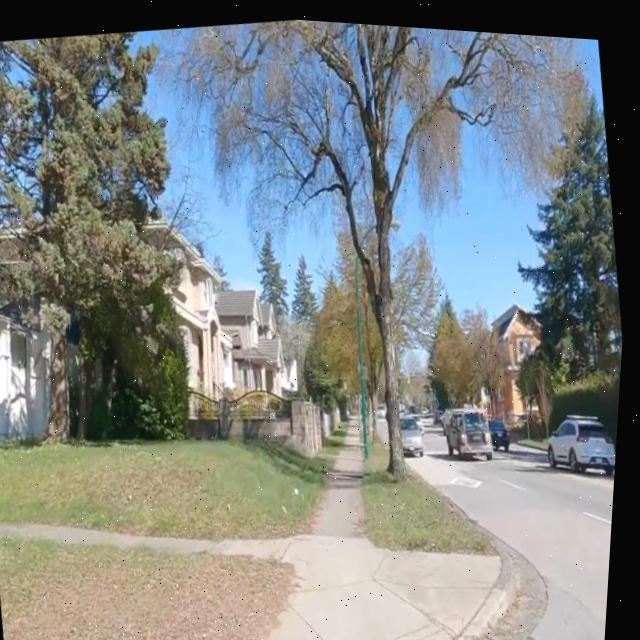Automobile: (553, 408, 620, 466), (449, 402, 497, 452), (405, 411, 428, 449), (495, 412, 513, 443)
Road: (413, 430, 620, 639)
Sidewalk: (226, 529, 516, 640), (1, 522, 295, 554), (318, 416, 370, 531)
